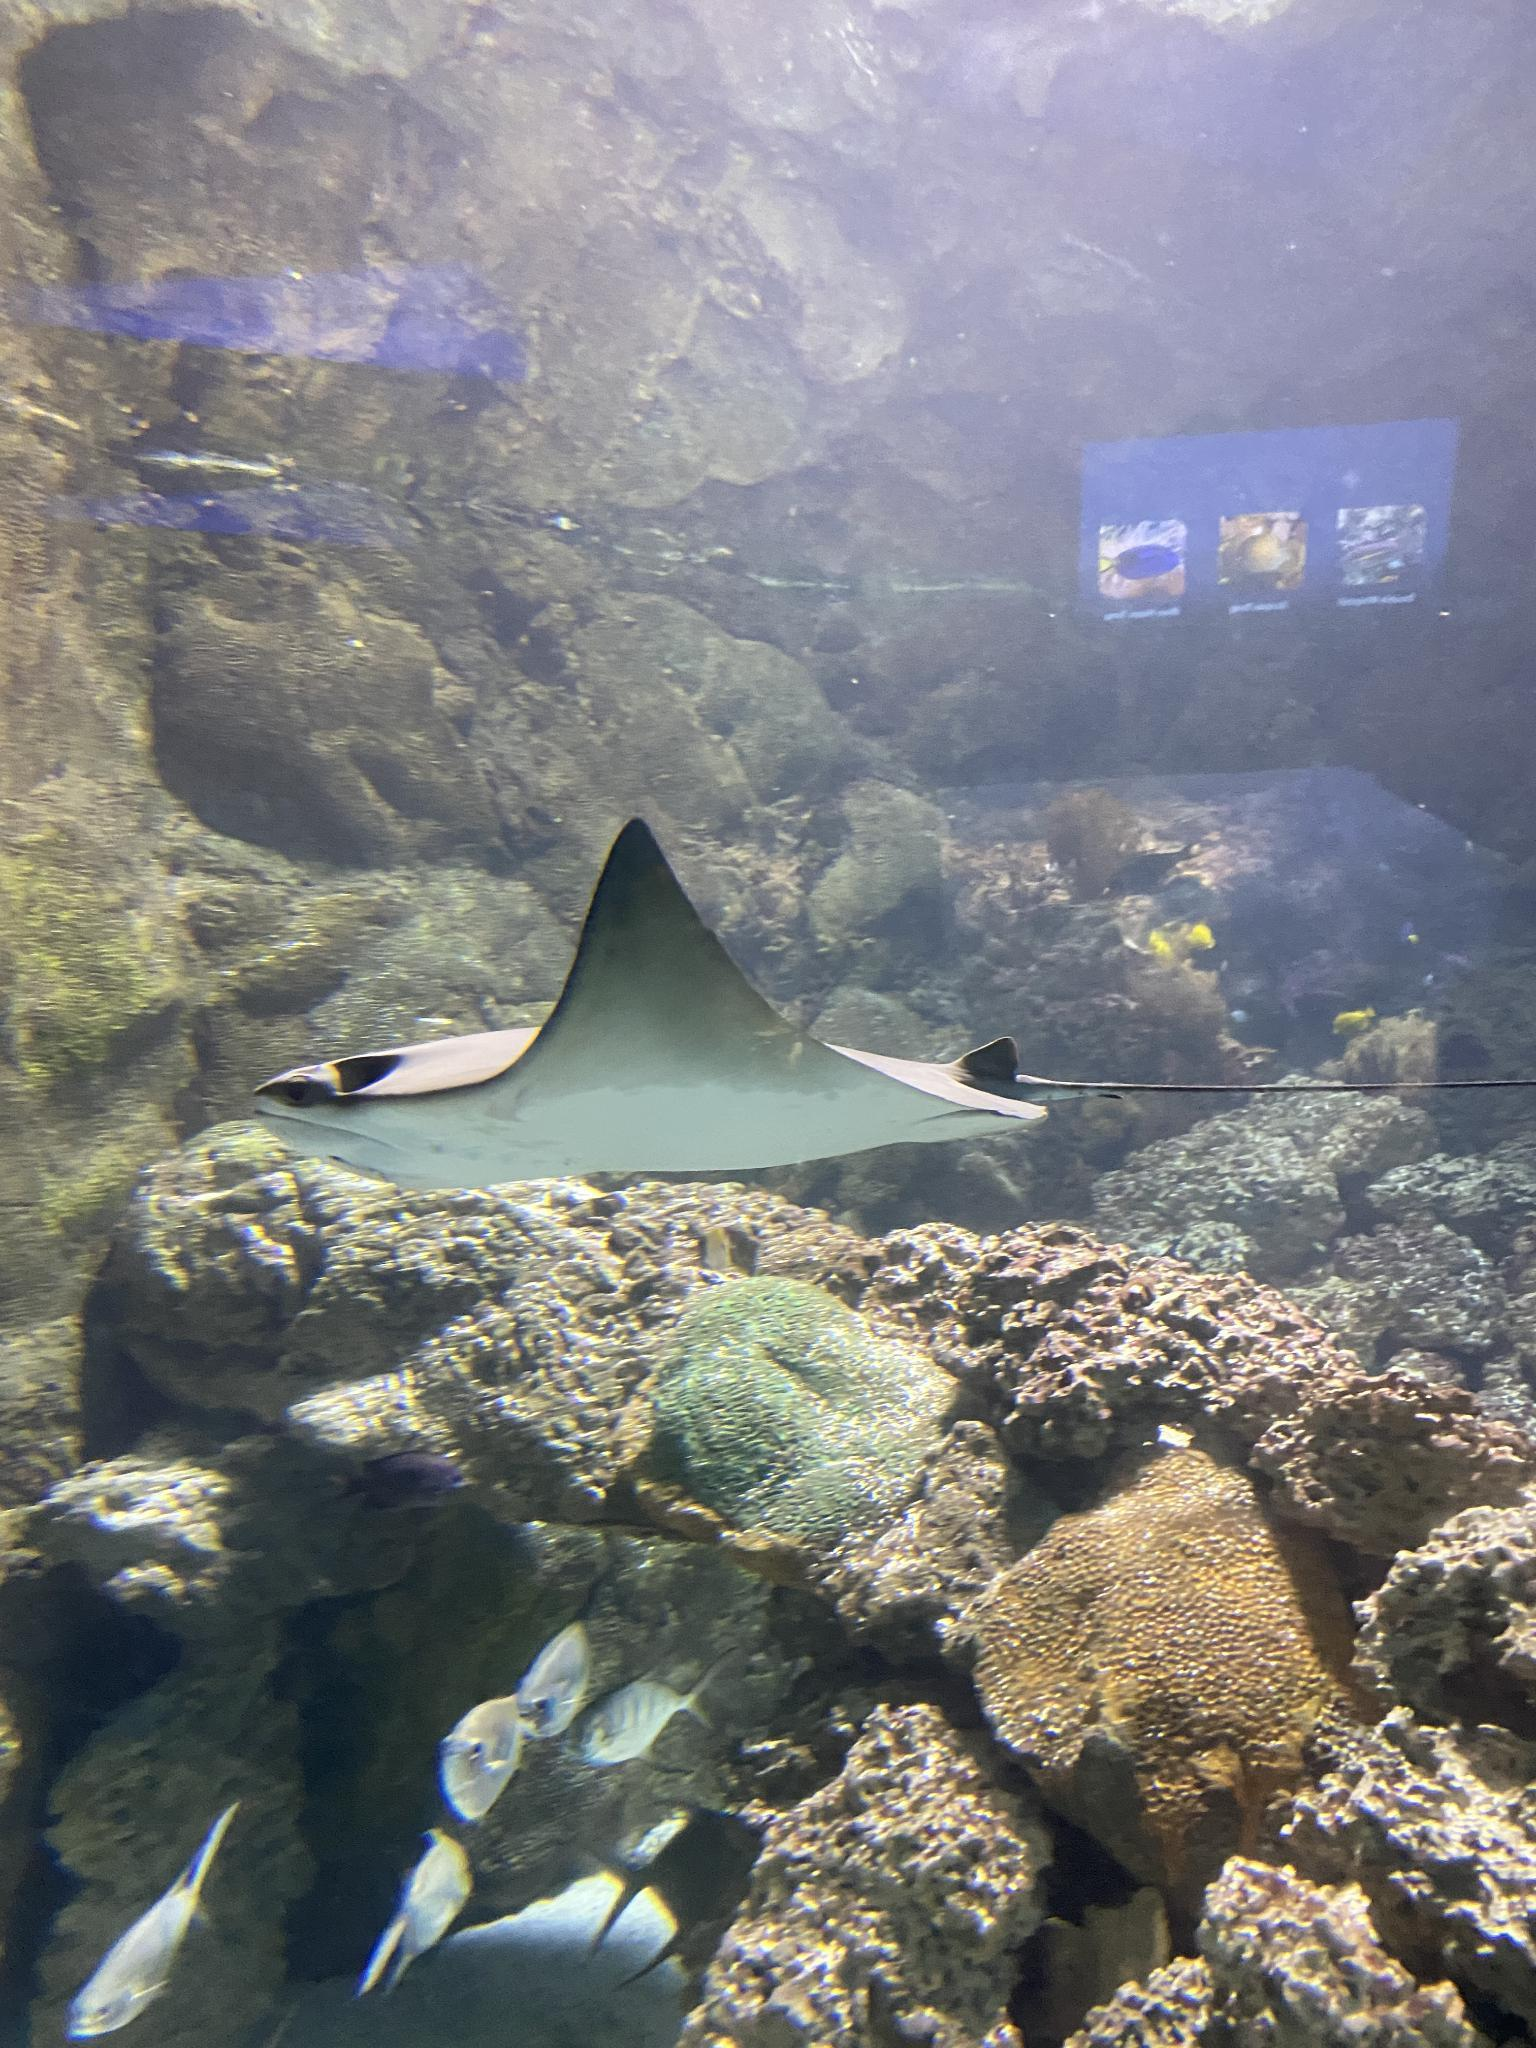fish: (73, 1800, 237, 2033), (366, 1830, 468, 1988), (563, 1667, 708, 1766), (445, 1693, 520, 1814), (520, 1611, 589, 1737)
stingray: (240, 810, 1050, 1185)
